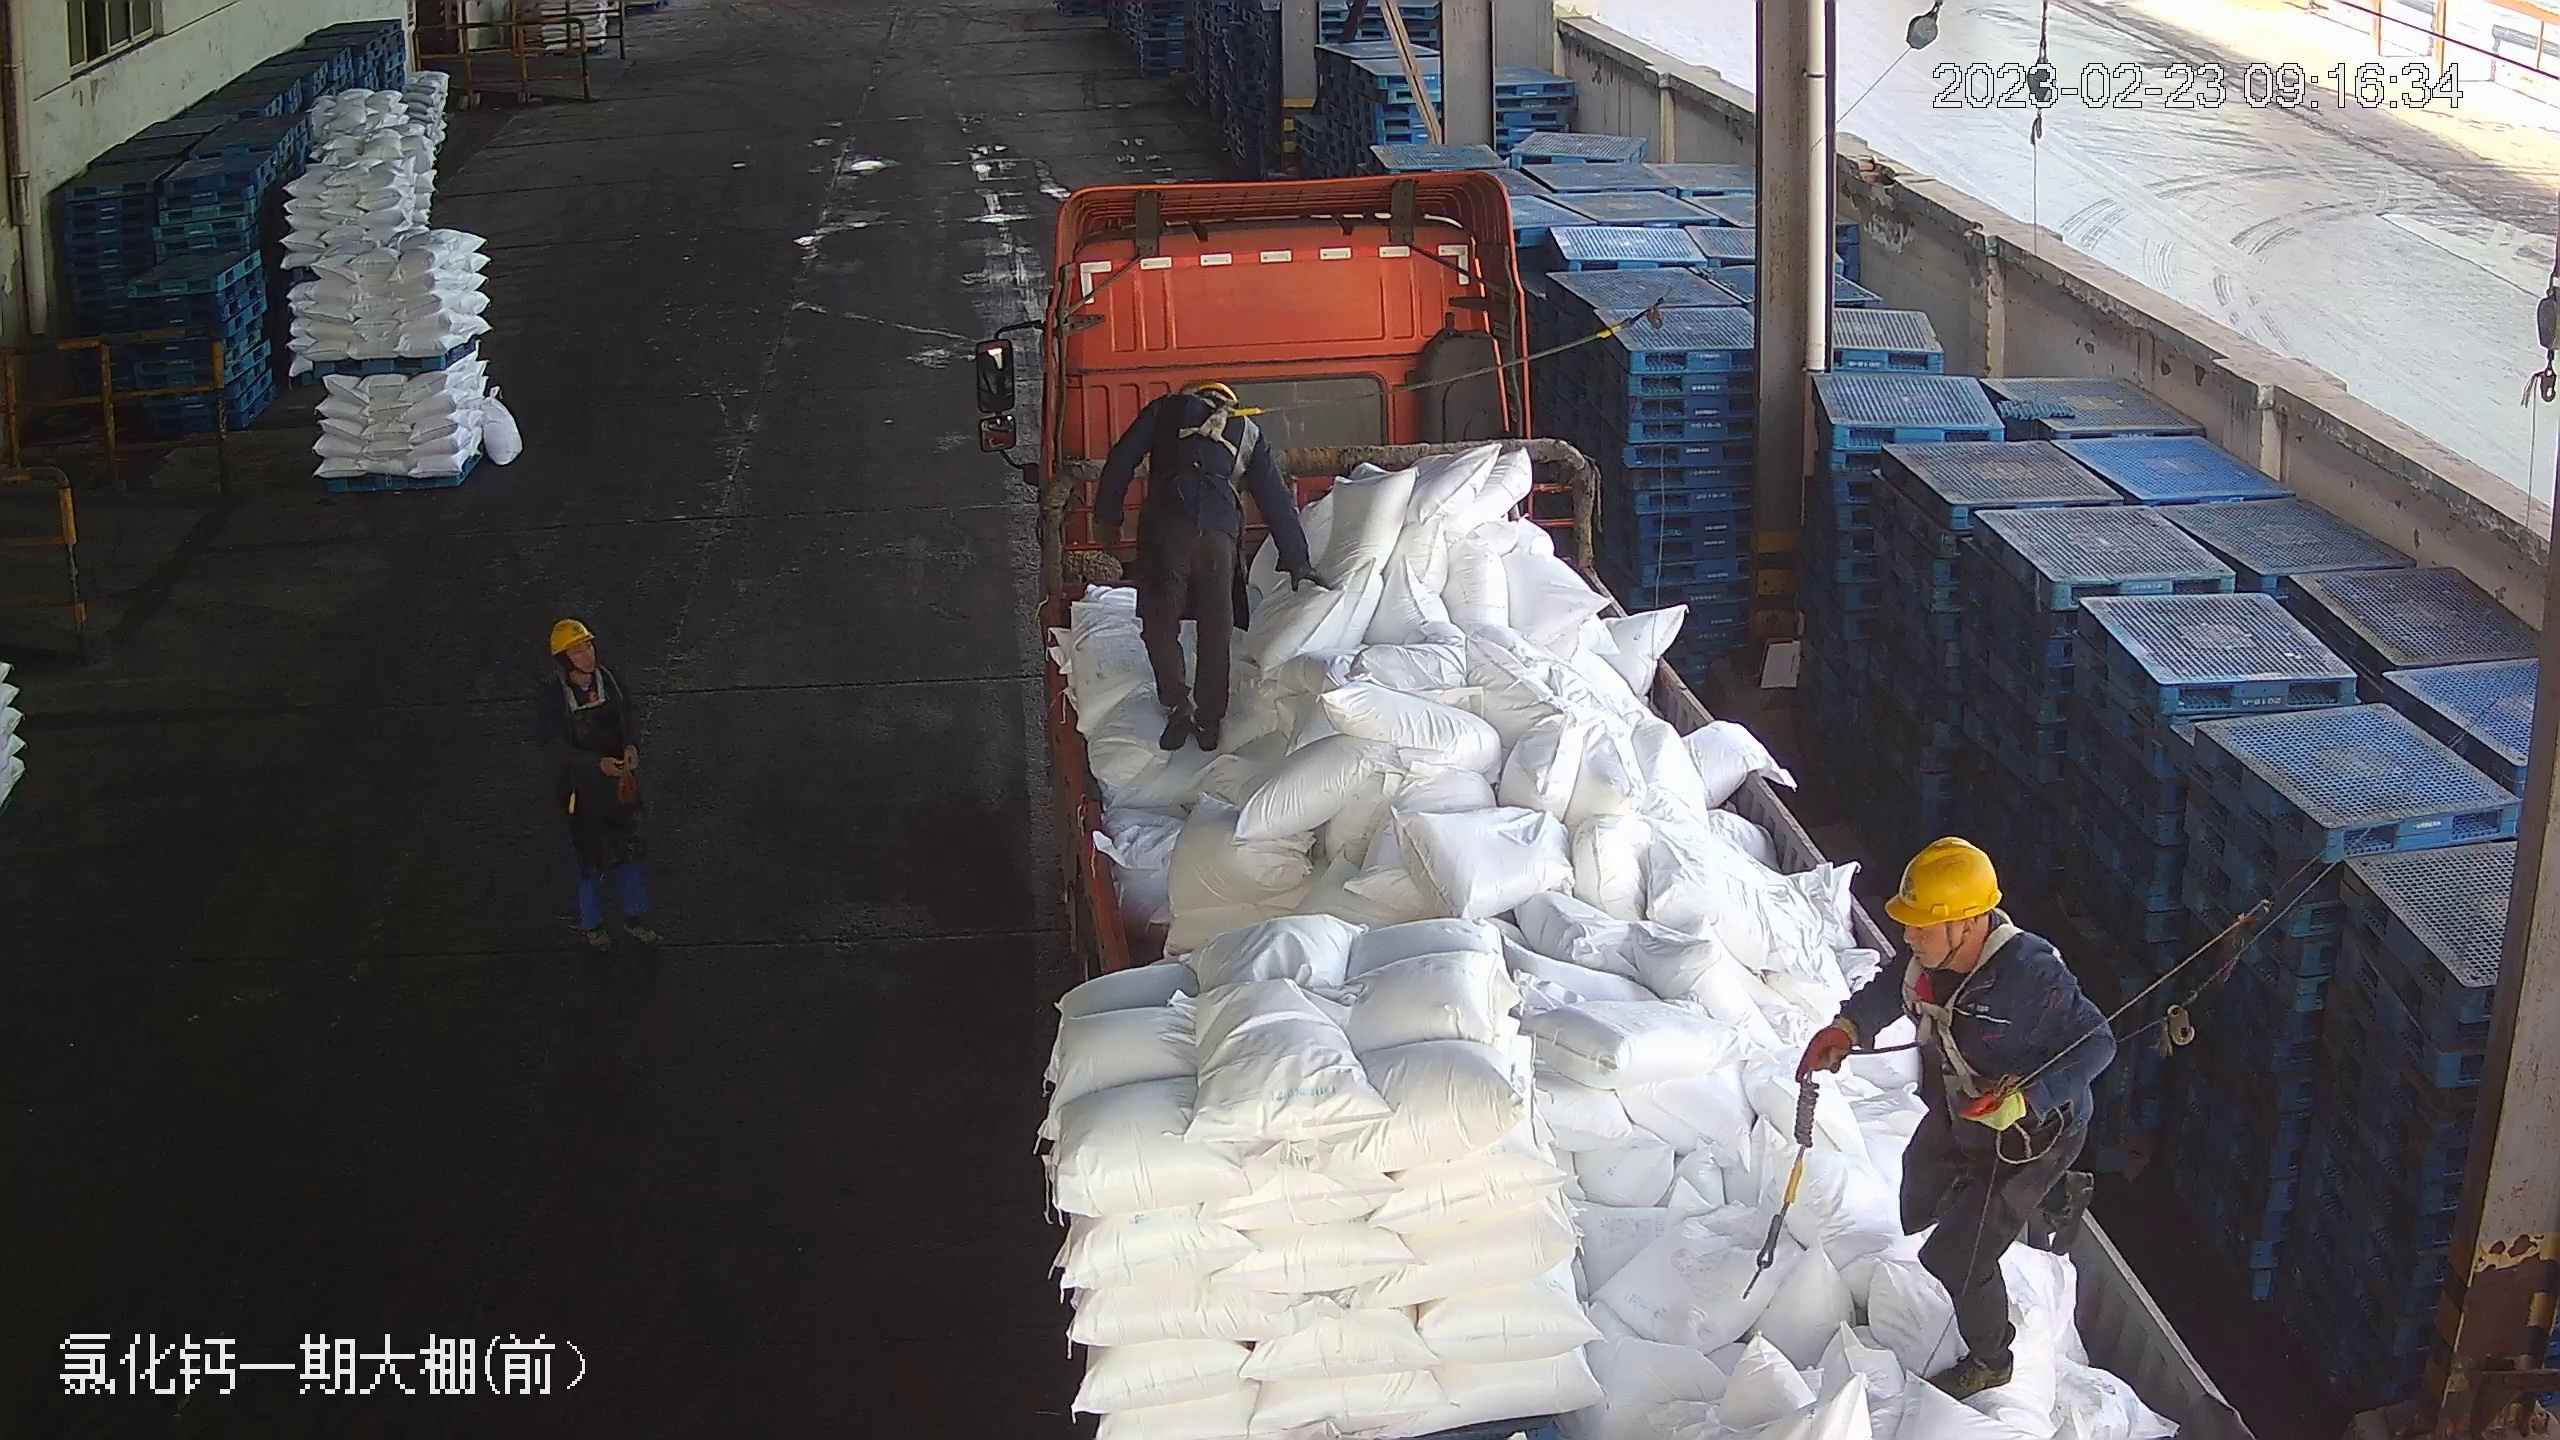belt: (1899, 952, 2039, 1113), (1155, 384, 1260, 457), (560, 665, 621, 712)
head: (1872, 836, 2055, 1041), (1146, 379, 1256, 468), (534, 618, 621, 716)
helmet: (1878, 833, 2004, 926), (545, 615, 594, 655)
people: (1798, 839, 2103, 1401), (1091, 380, 1316, 755), (526, 612, 667, 953)
truck: (972, 170, 2262, 1435)
